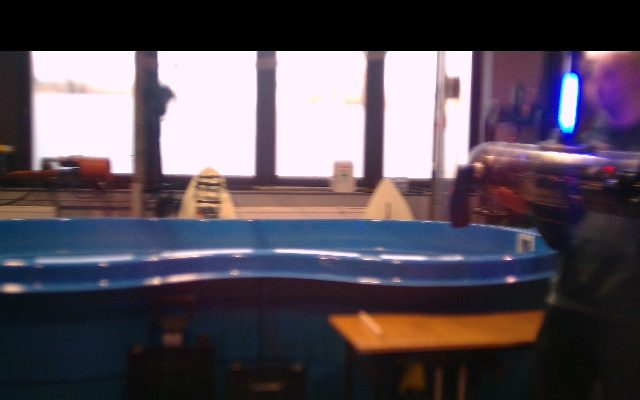blue: (558, 72, 579, 134)
